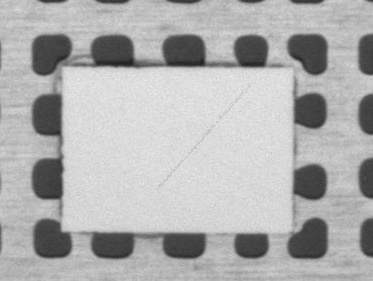DIE_CRACK: (208, 64, 332, 142)
